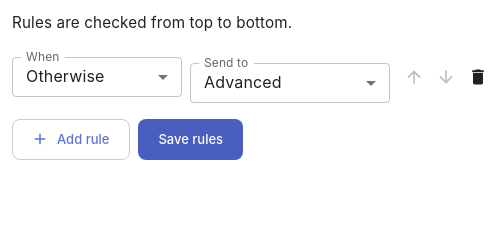
Scenario: QuizBranching › adds a new rule in front of an otherwise rule, which would shadow it
Click the button "Add rule".
click(71, 139)  # box x1=12 y1=119 x2=130 y2=160
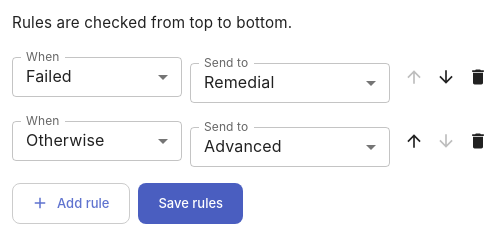
Expected: the dropdown named "When" reads "Otherwise", x1=26 y1=130 x2=104 y2=150
Result: the dropdown named "When" reads "Failed" at x1=26 y1=66 x2=72 y2=86
